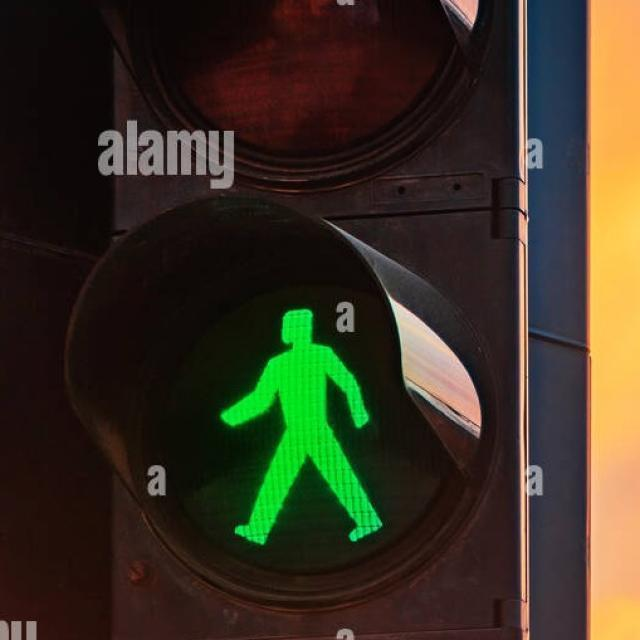geen-crossing: (214, 304, 382, 546)
